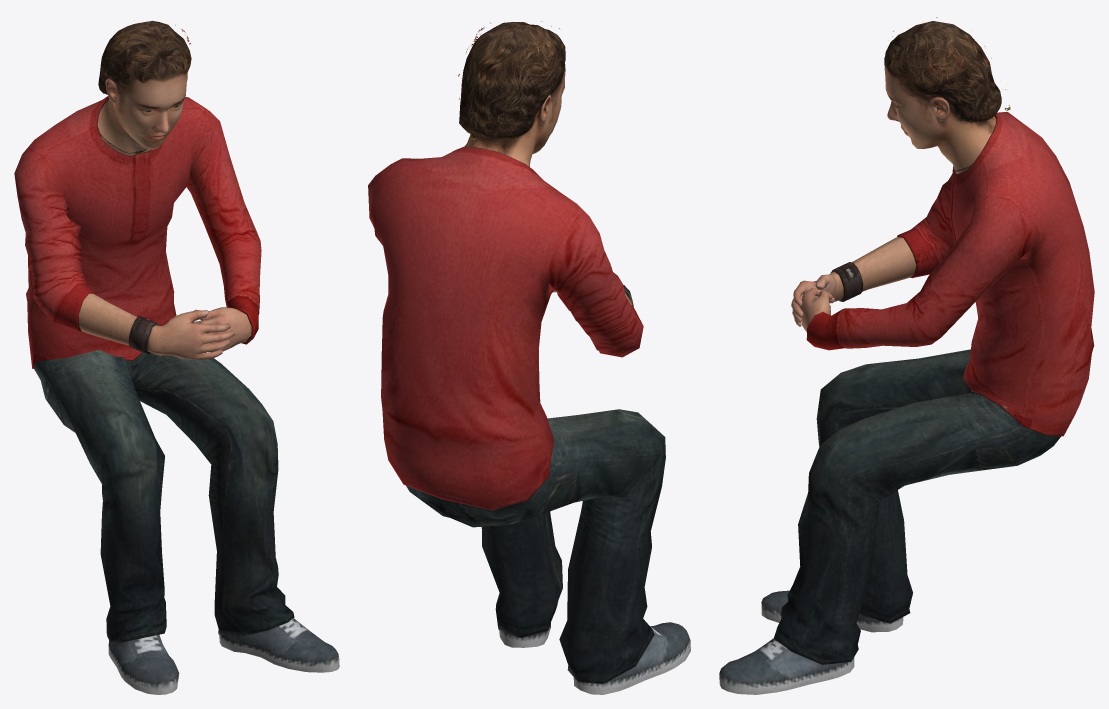
The model's file is Male_Adult_06.glb.
3 renders of one model, left to right at view 1: azimuth 30°, elevation 25°; view 2: azimuth 150°, elevation 25°; view 3: azimuth 270°, elevation 25°, orthographic. The views are drawn at different scales.
Parts seen in each view (by area): view 1: Male_Adult_06; view 2: Male_Adult_06; view 3: Male_Adult_06.
Part boxes in pixels (x1,y1,x2,y2): Male_Adult_06: [14, 20, 339, 694]; Male_Adult_06: [368, 21, 690, 694]; Male_Adult_06: [719, 17, 1094, 694].
Bounding box in the file's own units: 0.5531 × 1.46 × 0.7925.
Materials: 3 (3 with a texture image).
